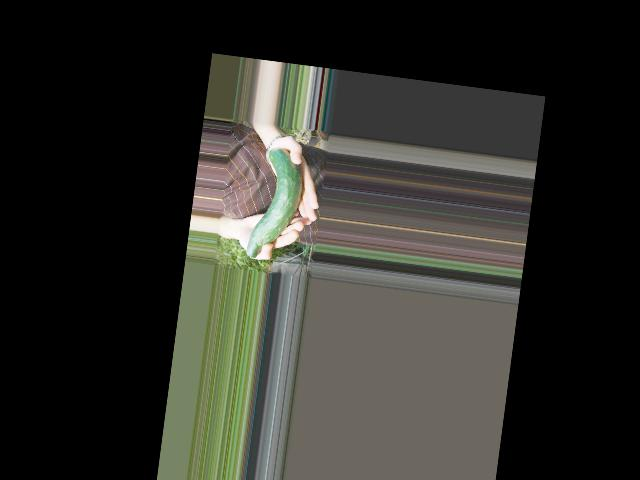cucumber: (245, 144, 307, 262)
